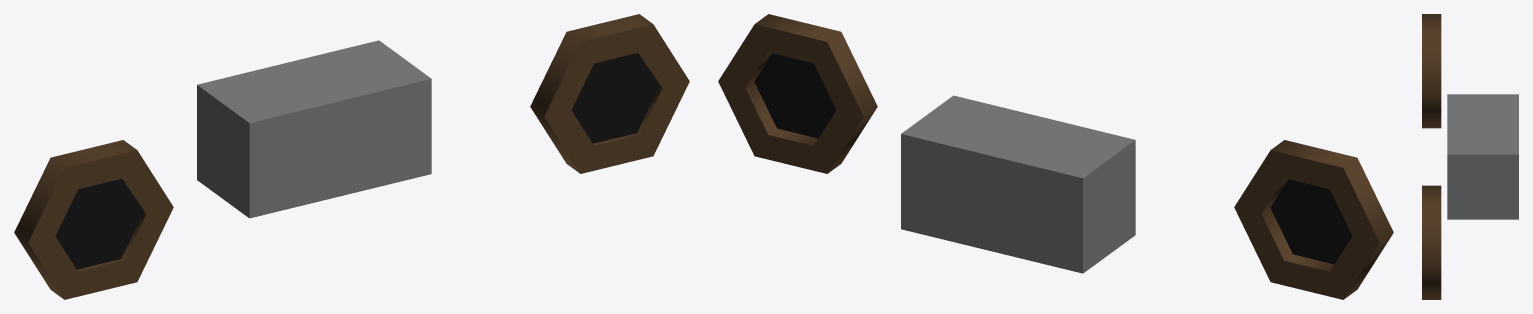
Rendered from ec2_motor.obj.
The picture shows the model from 3 angles, left to right: view 1: azimuth 30°, elevation 25°; view 2: azimuth 150°, elevation 25°; view 3: azimuth 270°, elevation 25°; orthographic projection. The views are drawn at different scales.
Parts seen in each view (by area): view 1: ec2_motor; view 2: ec2_motor; view 3: ec2_motor.
Boxes of the visible parts, bbox=[...] form: ec2_motor: bbox=[14, 14, 689, 299]; ec2_motor: bbox=[718, 14, 1393, 299]; ec2_motor: bbox=[1422, 14, 1518, 299].
Bounding box in the file's own units: 4.36 × 0.8314 × 0.81.
